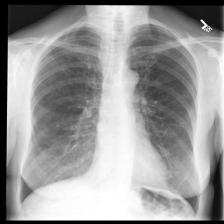normal: (15, 23, 204, 218)
